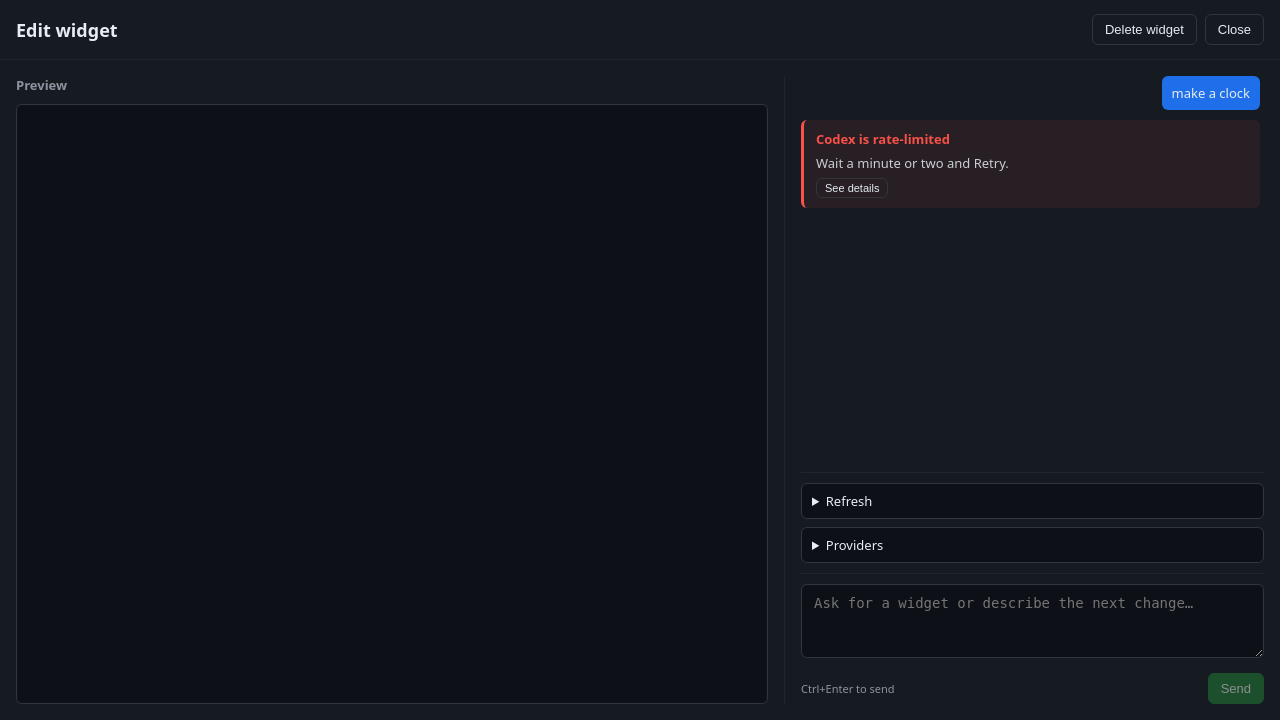
WidgetWorkspace › failed transcript message renders as a red-bordered alert with friendly heading; See details reveals the raw text
The width and height of the screenshot is (1280, 720).
Expected: the message shows "Codex is rate-limited", [816,130,950,148]
Expected: the message shows "Wait a minute", [816,154,1009,172]
Click the button "See details": (852, 188) [816,178,888,198]
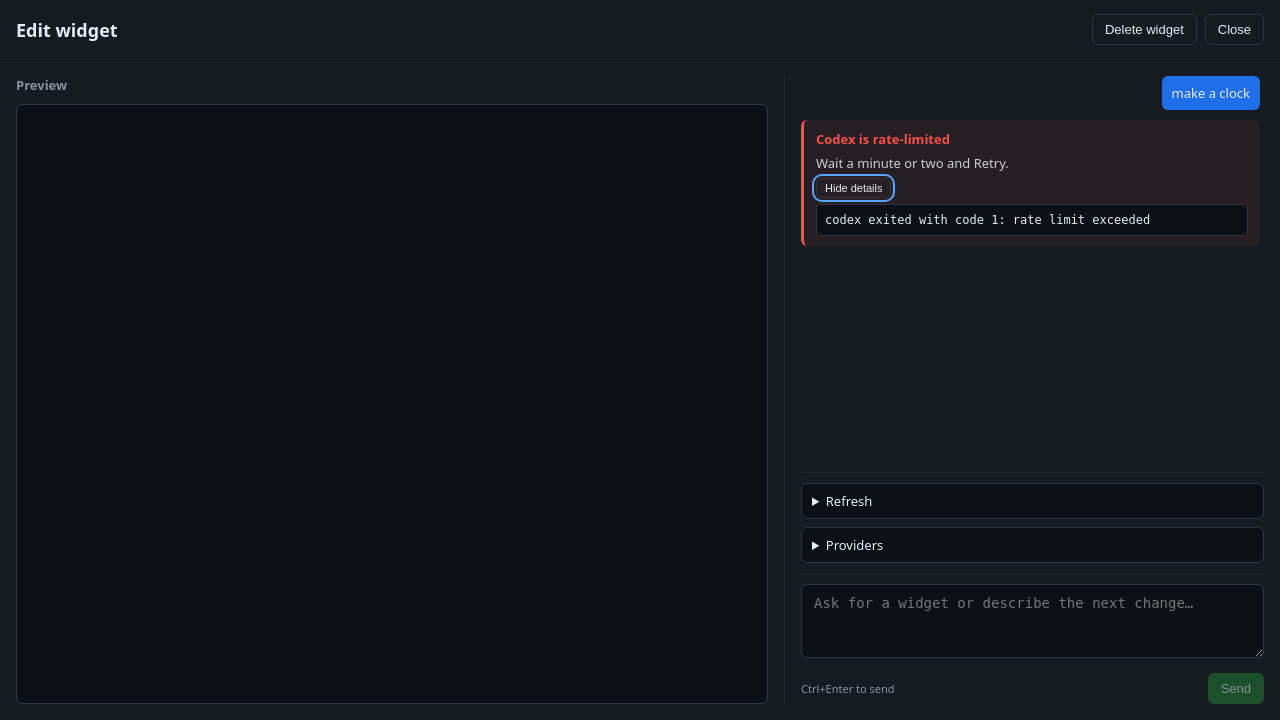
Expected: the text "codex exited with code 1: rate limit exceeded" is shown, [816,204,1248,236]
